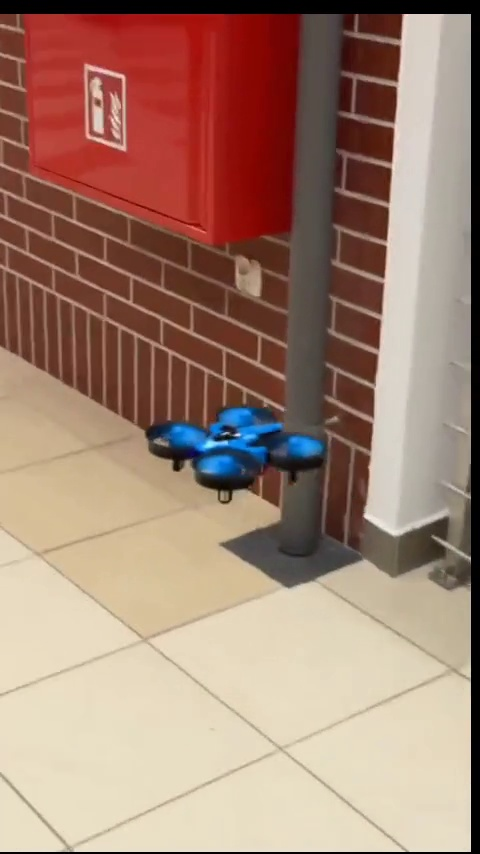drone: (138, 398, 326, 507)
